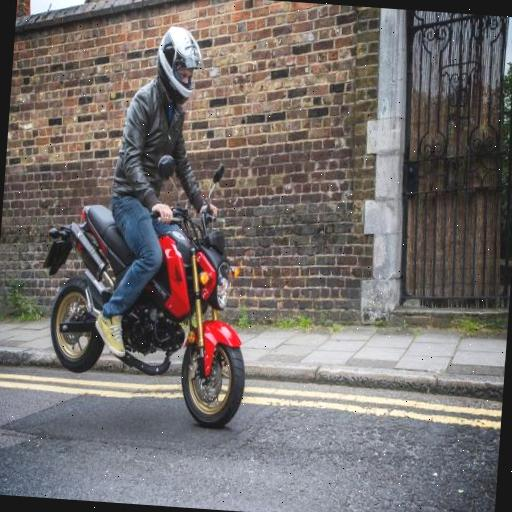helmet: (60, 10, 250, 406)
